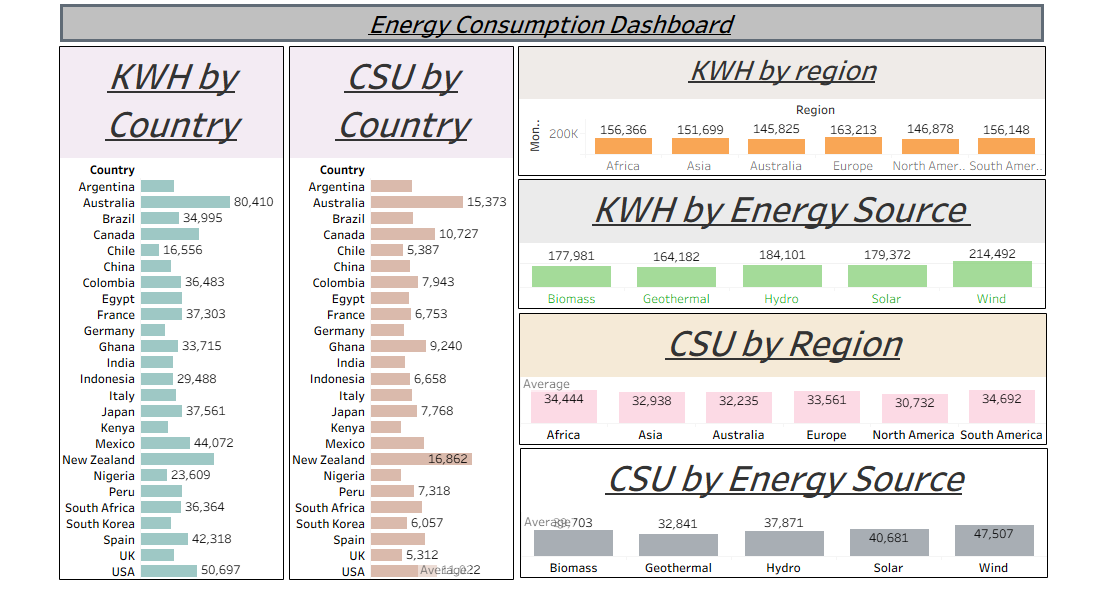

Layout of this report page (visuals, bound fields, positions):
{"tool":"tableau","page":{"name":"Tableau+AWS+snowflake Dashboard ","canvas":[1000,800],"ordinal":0},"visuals":[{"type":"text","box":[10,4,984,38]},{"type":"worksheet","title":"KWH by Country","mark":"Bar","rows":["COUNTRY"],"cols":["MONTHLY_USAGE_KWH"],"box":[9,46,225,534]},{"type":"worksheet","title":"CSU by Country","mark":"Automatic","rows":["COUNTRY"],"cols":["COST_SAVINGS_USD"],"box":[239,46,225,534]},{"type":"worksheet","title":"KWH by region","mark":"Automatic","rows":["MONTHLY_USAGE_KWH"],"cols":["REGION"],"box":[468,46,528,130]},{"type":"worksheet","title":"KWH by Energy Source ","mark":"Automatic","rows":["MONTHLY_USAGE_KWH"],"cols":["ENERGY_SOURCE"],"box":[468,179,528,130]},{"type":"worksheet","title":"CSU by Region","mark":"Automatic","rows":["COST_SAVINGS_USD"],"cols":["REGION"],"box":[469,313,528,132]},{"type":"worksheet","title":"CSU by Energy Source","mark":"Bar","rows":["COST_SAVINGS_USD"],"cols":["ENERGY_SOURCE"],"box":[470,448,528,130]}]}

Visuals, with their boxes on the page's 1000x800 design canvas (x1, y1, x2, y2). These are canvas units, not pixel positions in the 1101x600 screenshot, which may show the page scaled, cropped or inside an application window:
text: {"x1": 10, "y1": 4, "x2": 994, "y2": 42}
"KWH by Country" worksheet (Bar marks): {"x1": 9, "y1": 46, "x2": 234, "y2": 580}
"CSU by Country" worksheet: {"x1": 239, "y1": 46, "x2": 464, "y2": 580}
"KWH by region" worksheet: {"x1": 468, "y1": 46, "x2": 996, "y2": 176}
"KWH by Energy Source " worksheet: {"x1": 468, "y1": 179, "x2": 996, "y2": 309}
"CSU by Region" worksheet: {"x1": 469, "y1": 313, "x2": 997, "y2": 445}
"CSU by Energy Source" worksheet (Bar marks): {"x1": 470, "y1": 448, "x2": 998, "y2": 578}
